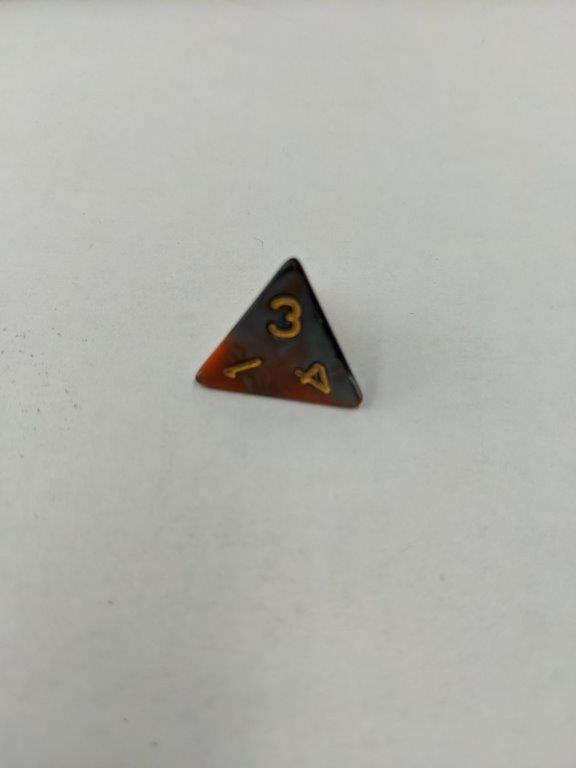d4-3: (186, 257, 371, 416)
